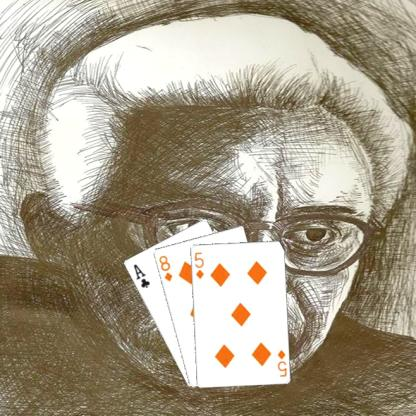5D: (274, 346, 288, 378), (191, 249, 205, 280)
8D: (156, 252, 173, 283)
AC: (130, 261, 151, 289)
